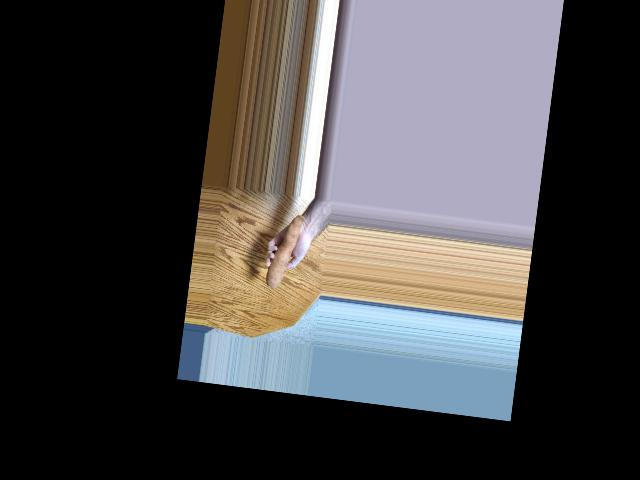sweet_potato: (263, 215, 301, 287)
